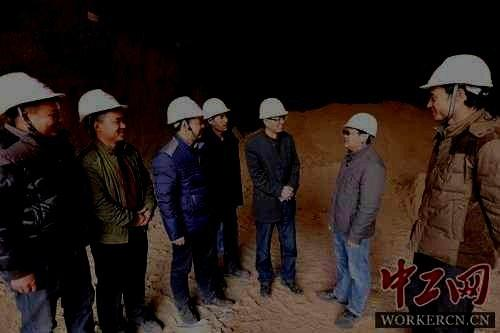helmet: (418, 54, 494, 120), (1, 72, 67, 136), (77, 89, 128, 141), (166, 96, 205, 139), (342, 112, 378, 150), (259, 98, 288, 133), (202, 97, 230, 130)
